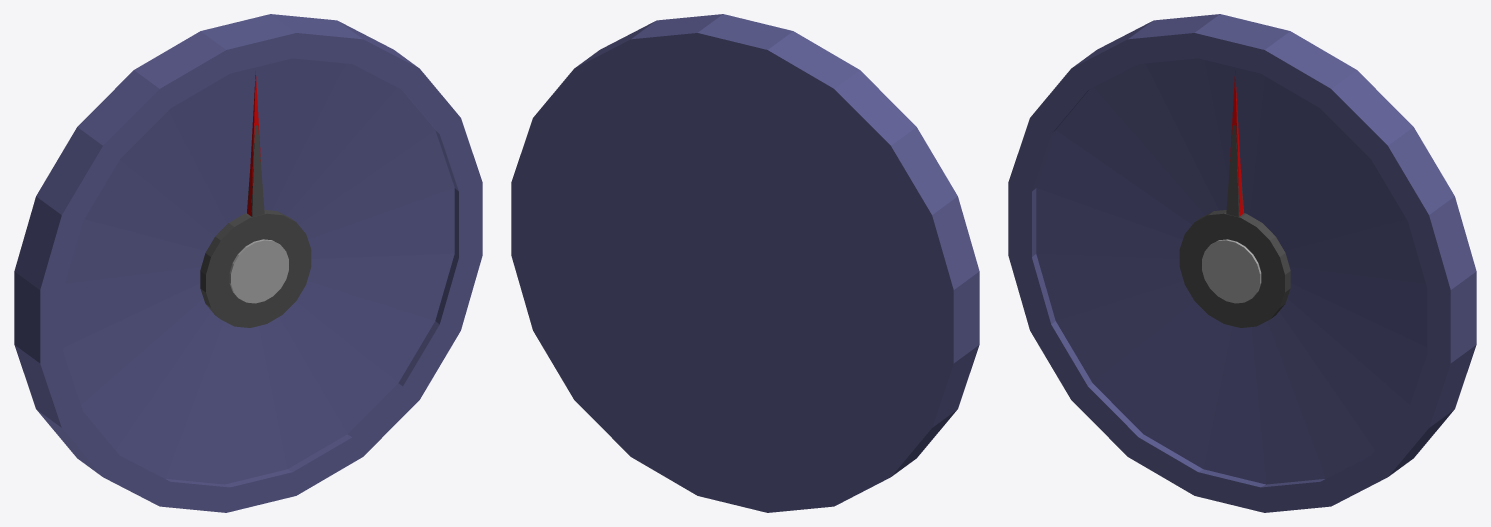
Rendered from SM_Dial.fbx.
3 views of the same model, side by side, from view 1: azimuth 30°, elevation 25°; view 2: azimuth 150°, elevation 25°; view 3: azimuth 330°, elevation 25° (orthographic).
Parts seen in each view (by area): view 1: Dial, BlackArrow, RedArrow; view 2: Dial; view 3: Dial, BlackArrow, RedArrow.
Part boxes in pixels (x1,y1,x2,y2): Dial: (14,14,482,512); BlackArrow: (247,125,264,216); RedArrow: (247,71,261,215); Dial: (511,14,979,512); Dial: (1008,14,1476,512); BlackArrow: (1226,125,1243,216); RedArrow: (1229,71,1243,215).
Bounding box in the file's own units: 7.41 × 7.41 × 0.7499.
